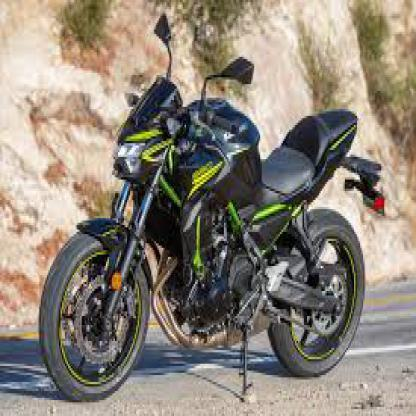Motorcycle: (37, 8, 396, 407)
